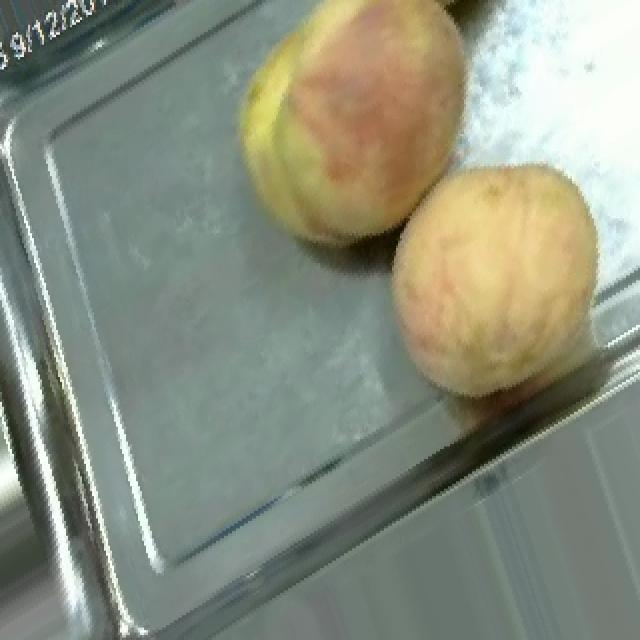Fruit: (200, 0, 498, 283), (358, 132, 636, 420)
